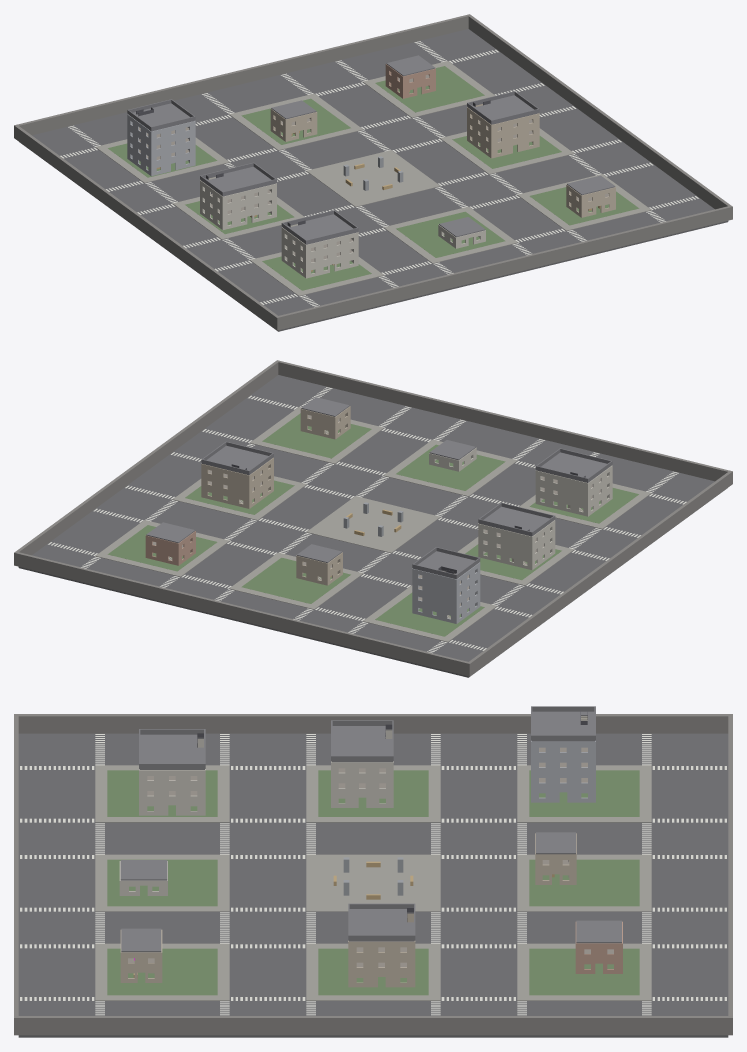
Rendered from story_demo.glb.
The picture shows the model from 3 angles, top to bottom: view 1: azimuth 30°, elevation 25°; view 2: azimuth 150°, elevation 25°; view 3: azimuth 270°, elevation 25°; orthographic projection. The views are drawn at different scales.
Parts seen in each view (by area): view 1: Ground, Buildings, Cover; view 2: Ground, Buildings; view 3: Ground, Buildings, Cover.
Part boxes in pixels (<box>): Ground: <box>19,29,728,331</box>; Buildings: <box>14,14,732,330</box>; Cover: <box>156,89,600,271</box>; Ground: <box>18,375,727,677</box>; Buildings: <box>14,360,732,676</box>; Ground: <box>18,733,728,1037</box>; Buildings: <box>14,706,732,1035</box>; Cover: <box>133,857,554,978</box>.
Bounding box in the file's own units: 150 × 16.52 × 150.
